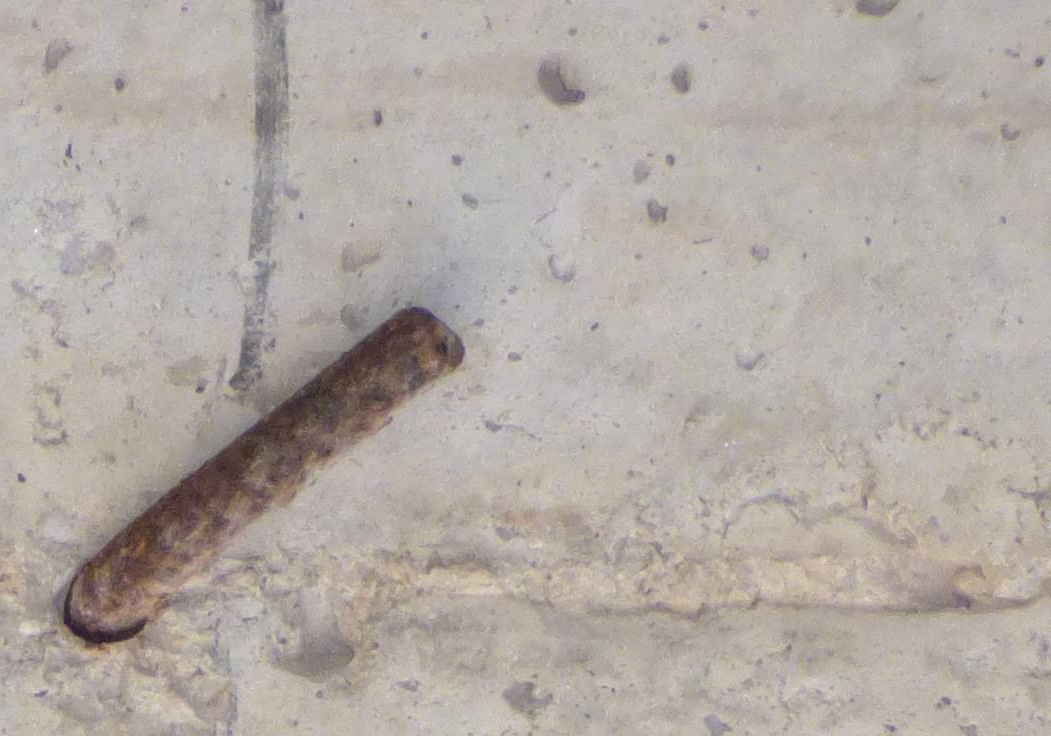Exposed reinforcement: (69, 306, 466, 637)
